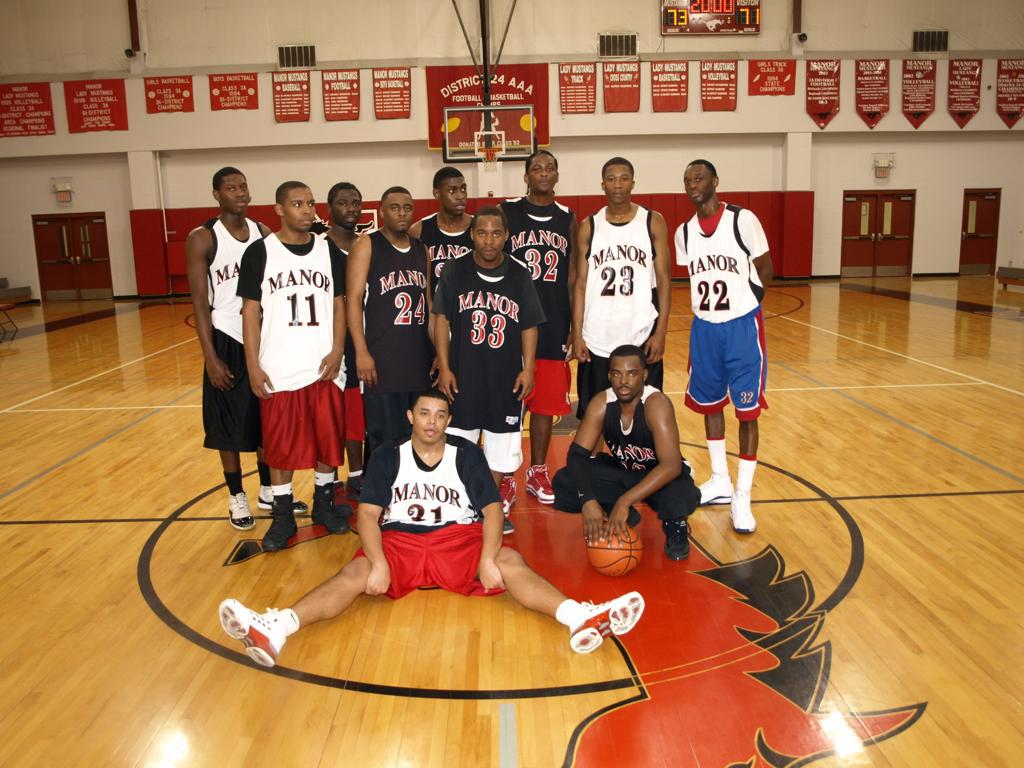face: (414, 398, 448, 446), (611, 356, 644, 401), (284, 188, 317, 231), (220, 176, 252, 216), (477, 217, 505, 262), (603, 167, 633, 205), (685, 166, 713, 204), (386, 194, 414, 232), (530, 156, 557, 195), (442, 179, 469, 217), (337, 190, 363, 229)
